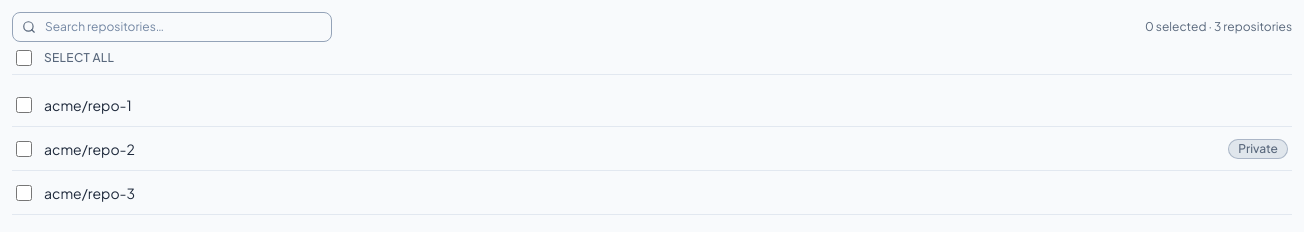
Scenario: RepositoryPickerList › select-all checkbox selects every currently-visible repository
The width and height of the screenshot is (1304, 232).
Click the checkbox named "Select all repositories": [24, 58] box [16,50,32,66]
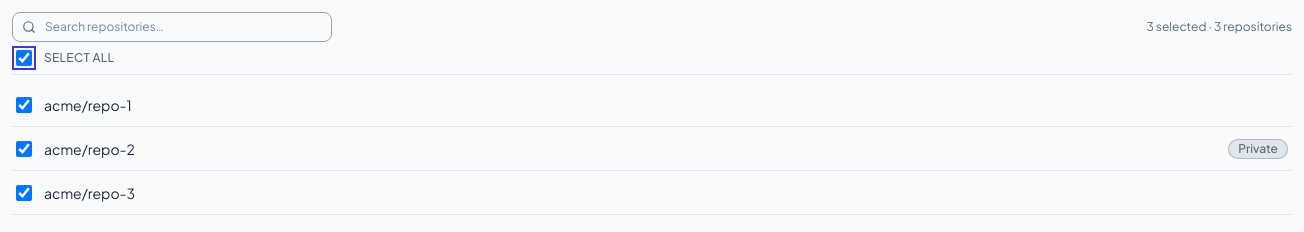
Now the checkbox labelled "acme/repo-1" is checked, box [16,96,32,112]
Now the checkbox labelled "acme/repo-2 Private" is checked, box [16,140,32,156]
Now the checkbox labelled "acme/repo-3" is checked, box [16,184,32,200]
